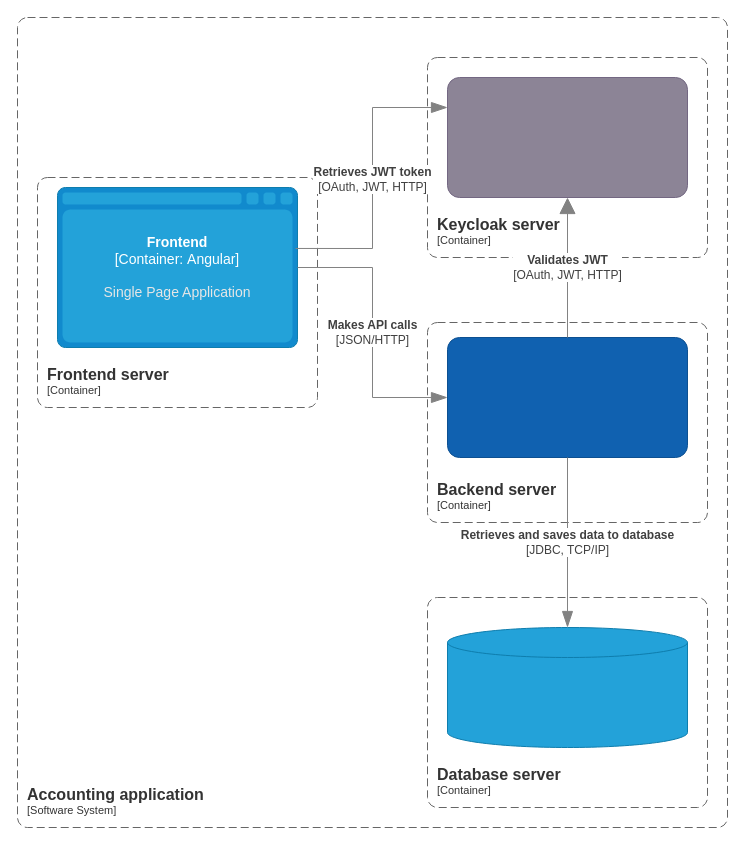
Image size: 745x845. Some labels were removed from this diagram. The shapes that lost their labels are listed below. From the top down, each one's centre as x and y in pixels, then its label:
[567,137]: Keycloak [Software System] OAuth Authorization Server
[567,397]: Backend [Software System] REST API (Spring Boot)
[567,687]: Database [Container: PostgreSQL] Relational database
